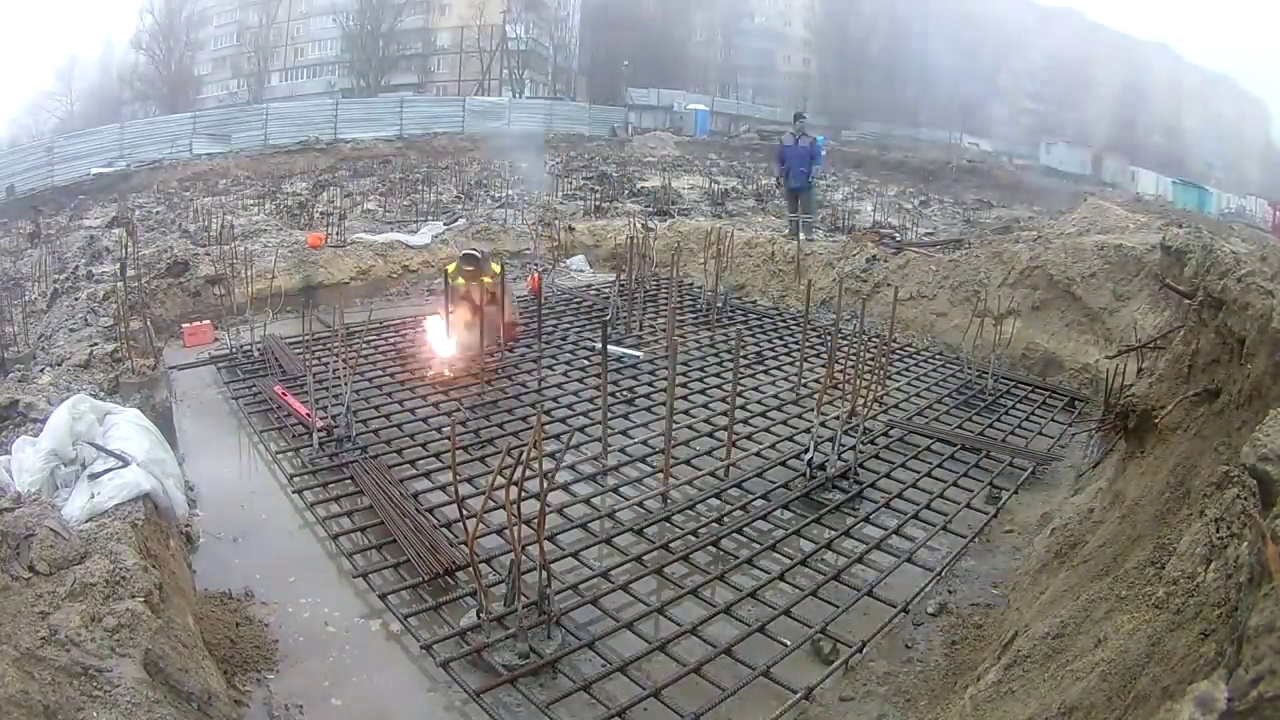helmet: (526, 270, 541, 298), (307, 232, 325, 250)
helmet-off: (455, 252, 487, 289), (790, 110, 810, 140)
person: (441, 248, 515, 356), (778, 110, 823, 243)
